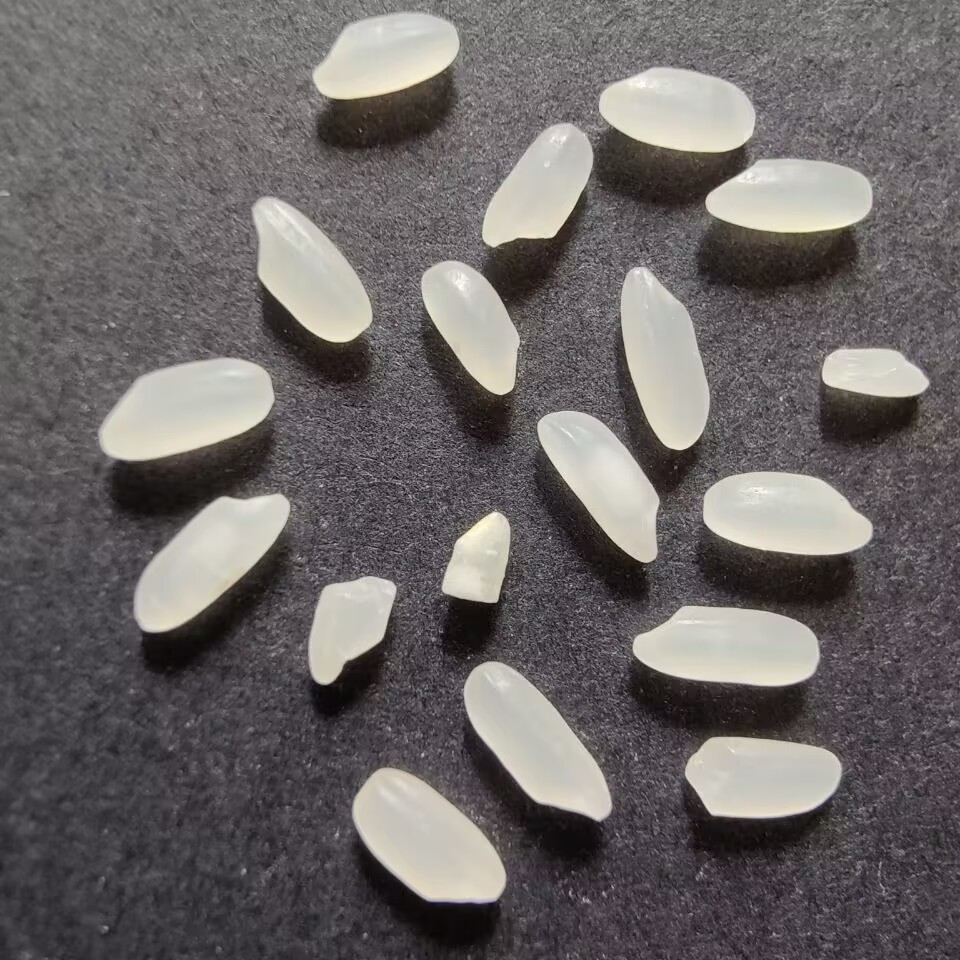broken: (304, 569, 399, 695), (435, 504, 516, 608), (817, 343, 935, 401)
rice: (459, 658, 617, 825), (126, 485, 294, 637), (348, 765, 510, 911), (531, 409, 668, 566), (93, 353, 280, 465), (245, 193, 378, 347), (624, 598, 830, 690), (617, 266, 716, 455), (681, 732, 849, 831), (697, 467, 876, 559), (475, 117, 595, 254), (412, 256, 522, 397), (592, 65, 760, 156), (303, 6, 462, 102), (700, 154, 879, 234)
